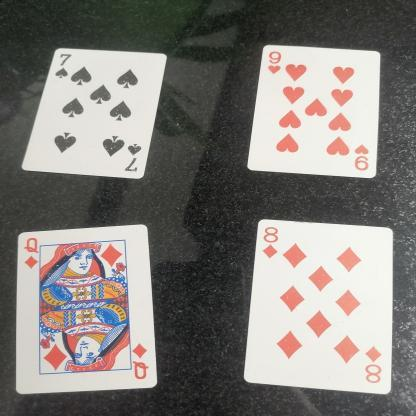7S: (42, 52, 77, 86)
8D: (364, 344, 388, 385), (260, 221, 282, 263)
9H: (264, 47, 288, 73)
QD: (20, 235, 48, 274)
